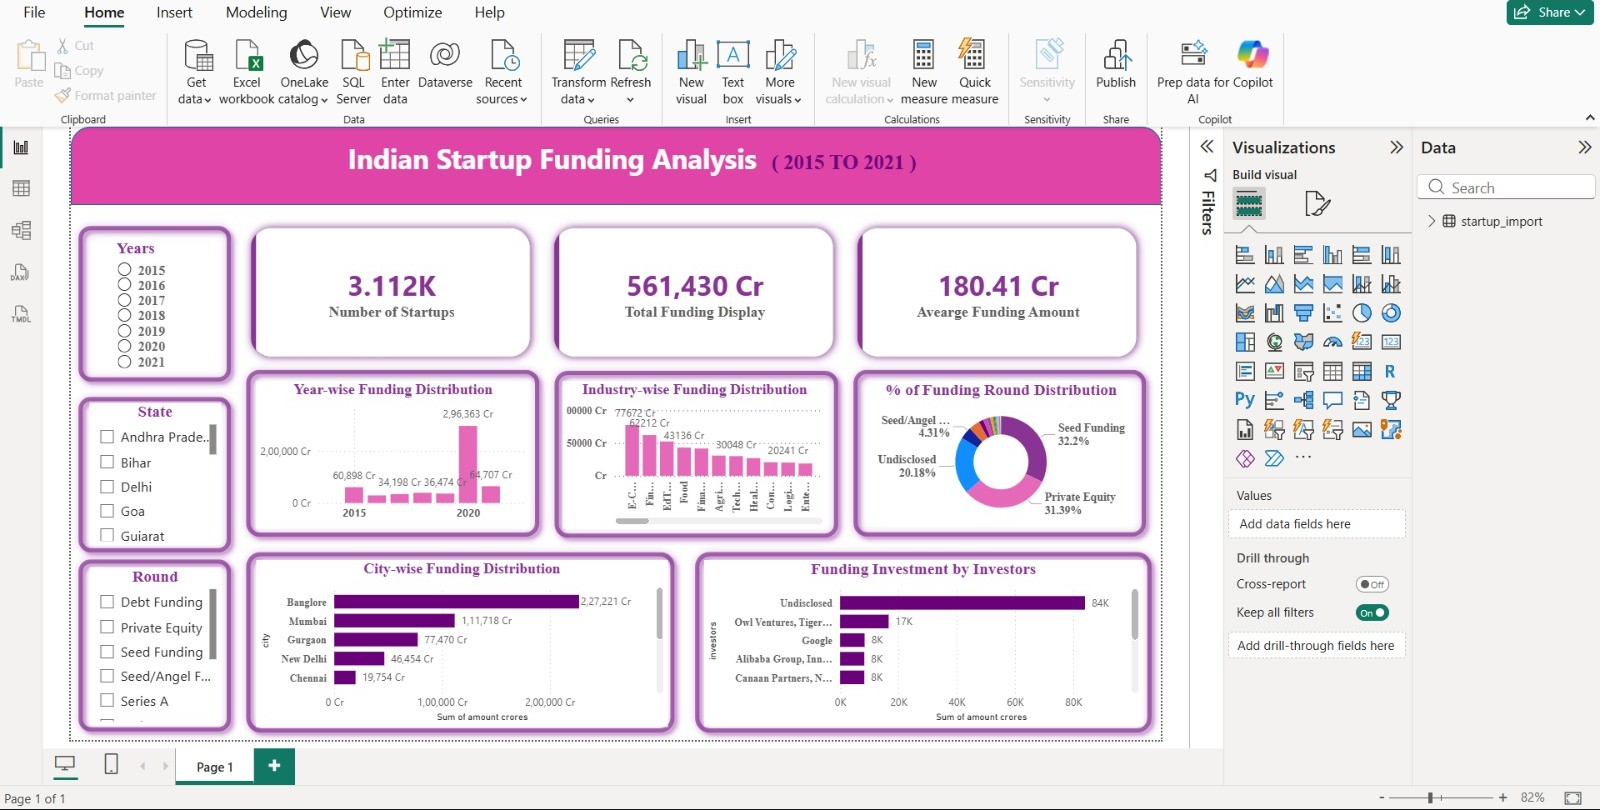

The page's visual inventory and layout, read from the dashboard file:
{"tool":"powerbi","page":{"name":"Page 1","canvas":[1280,720],"ordinal":0},"visuals":[{"type":"shape","box":[0,0,1280.3,91.9],"z":0},{"type":"textbox","box":[320.4,11,959.9,348.5],"z":1000},{"type":"shape","box":[910,276.2,361.2,213.8],"z":2000},{"type":"cardVisual","fields":{"Data":["startup_import.Number of Startups","startup_import.Total Funding Display","startup_import.Avearge Funding Amount"]},"box":[184.6,91.7,1095.7,206.7],"z":3000},{"type":"shape","box":[558.8,277.6,351,214],"z":4000},{"type":"shape","box":[196.9,276.4,362,214],"z":5000},{"type":"donutChart","title":"% of Funding Round Distribution","fields":{"Y":["CountNonNull(startup_import.amount crores)"],"Category":["startup_import.round"]},"box":[943.8,298.8,296.2,170],"z":6000},{"type":"columnChart","title":"Industry-wise Funding Distribution","fields":{"Category":["startup_import.industry"],"Y":["Sum(startup_import.amount crores)"]},"box":[577.2,298.4,310.6,173.6],"z":7000},{"type":"columnChart","title":"Year-wise Funding Distribution","fields":{"Category":["startup_import.year"],"Y":["Sum(startup_import.amount crores)"]},"box":[217.7,297.1,321.6,173.6],"z":8000},{"type":"shape","box":[196.9,490.4,520.9,229.9],"z":9000},{"type":"shape","box":[723.8,490,553.8,230],"z":10000},{"type":"clusteredBarChart","title":"City-wise Funding Distribution","fields":{"Category":["startup_import.city"],"Y":["Sum(startup_import.amount crores)"]},"box":[217.7,508.7,483,195.7],"z":11000},{"type":"clusteredBarChart","title":"Funding Investment by Investors","fields":{"Category":["startup_import.investors"],"Y":["Sum(startup_import.amount crores)"]},"box":[743.8,508.8,515,195],"z":12000},{"type":"shape","box":[0,107.6,196.9,200.5],"z":13000},{"type":"listSlicer","title":"Years","fields":{"Values":["startup_import.year"]},"box":[48.9,132.1,116.2,176.1],"z":14000},{"type":"shape","box":[0,498.9,196.9,220.1],"z":15000},{"type":"slicer","title":"Round","fields":{"Values":["startup_import.round"]},"box":[22,517.3,154.1,185.9],"z":16000},{"type":"shape","box":[0,308.2,196.9,200.5],"z":17000},{"type":"slicer","title":"State","fields":{"Values":["startup_import.state"]},"box":[22,324.1,154.1,167.5],"z":18000}]}

Visuals, with their boxes on the page's 1280x720 design canvas (x1, y1, x2, y2). These are canvas units, not pixel positions in the 1600x810 screenshot, which may show the page scaled, cropped or inside an application window:
shape: Rect(0, 0, 1280, 92)
textbox: Rect(320, 11, 1280, 360)
shape: Rect(910, 276, 1271, 490)
cardVisual - startup_import.Number of Startups x startup_import.Total Funding Display: Rect(185, 92, 1280, 298)
shape: Rect(559, 278, 910, 492)
shape: Rect(197, 276, 559, 490)
"% of Funding Round Distribution" donutChart: Rect(944, 299, 1240, 469)
"Industry-wise Funding Distribution" columnChart: Rect(577, 298, 888, 472)
"Year-wise Funding Distribution" columnChart: Rect(218, 297, 539, 471)
shape: Rect(197, 490, 718, 720)
shape: Rect(724, 490, 1278, 720)
"City-wise Funding Distribution" clusteredBarChart: Rect(218, 509, 701, 704)
"Funding Investment by Investors" clusteredBarChart: Rect(744, 509, 1259, 704)
shape: Rect(0, 108, 197, 308)
"Years" listSlicer: Rect(49, 132, 165, 308)
shape: Rect(0, 499, 197, 719)
"Round" slicer: Rect(22, 517, 176, 703)
shape: Rect(0, 308, 197, 509)
"State" slicer: Rect(22, 324, 176, 492)
